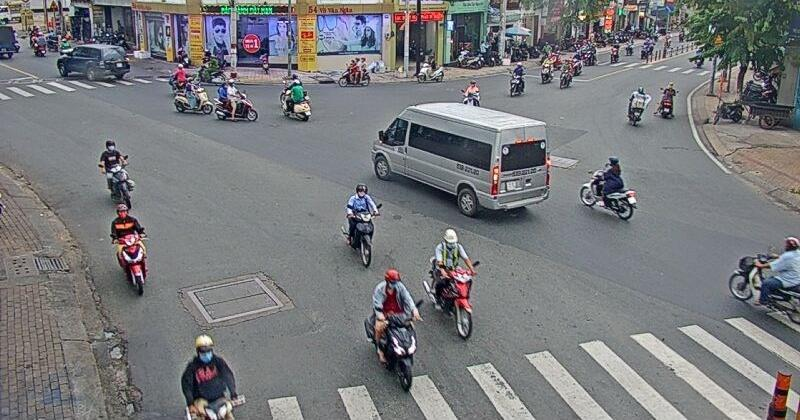xe may: (364, 269, 420, 392), (727, 236, 800, 323), (422, 229, 475, 340), (180, 333, 237, 420), (579, 156, 637, 220), (109, 203, 148, 295), (346, 182, 382, 267), (98, 139, 135, 209), (215, 78, 258, 121), (173, 76, 213, 115), (282, 79, 311, 122), (338, 57, 370, 87)
xe van: (369, 102, 548, 213)
